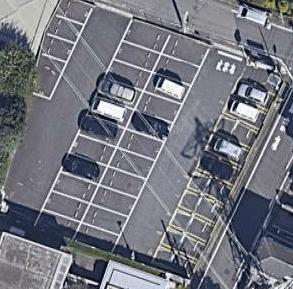parkingspot: (71, 30, 214, 256), (31, 16, 174, 241), (148, 75, 279, 280), (33, 1, 95, 100)
